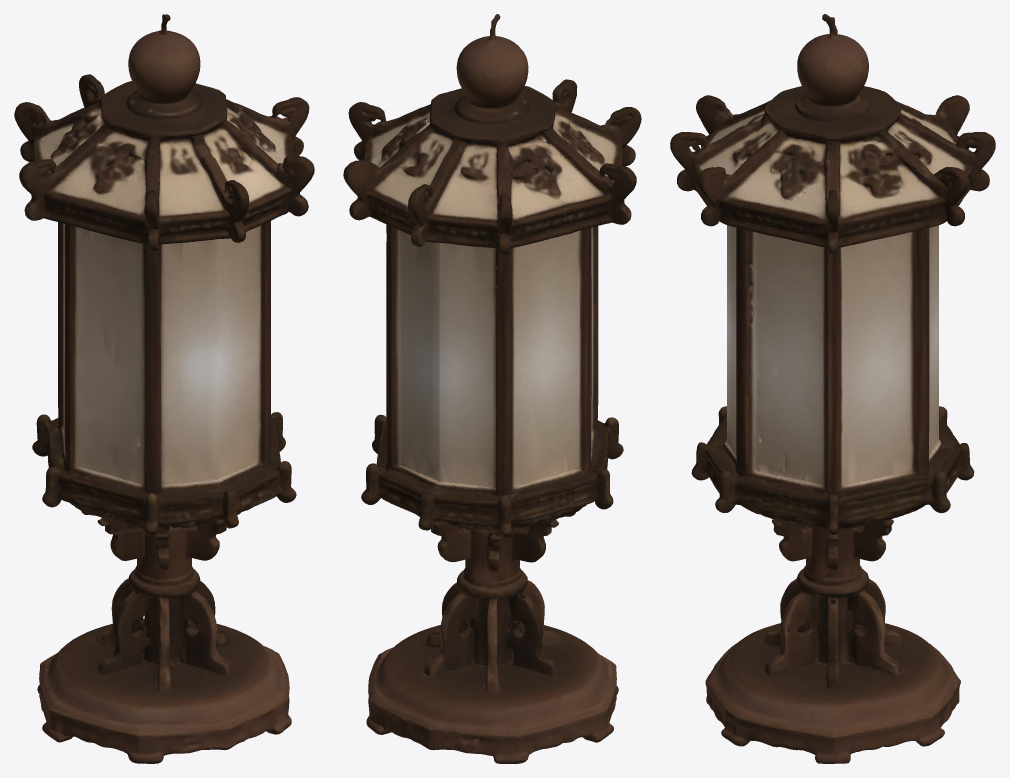
Rendered from tex_mesh.glb.
The picture shows the model from 3 angles, left to right: view 1: azimuth 30°, elevation 25°; view 2: azimuth 150°, elevation 25°; view 3: azimuth 270°, elevation 25°; orthographic projection.
Parts seen in each view (by area): view 1: world; view 2: world; view 3: world.
Part boxes in pixels (left/top/right/bottom): world: left=14, top=14, right=314, bottom=763; world: left=343, top=14, right=641, bottom=763; world: left=670, top=14, right=995, bottom=763.
Bounding box in the file's own units: 0.3231 × 0.7499 × 0.3188.
1 material, 1 textured.
